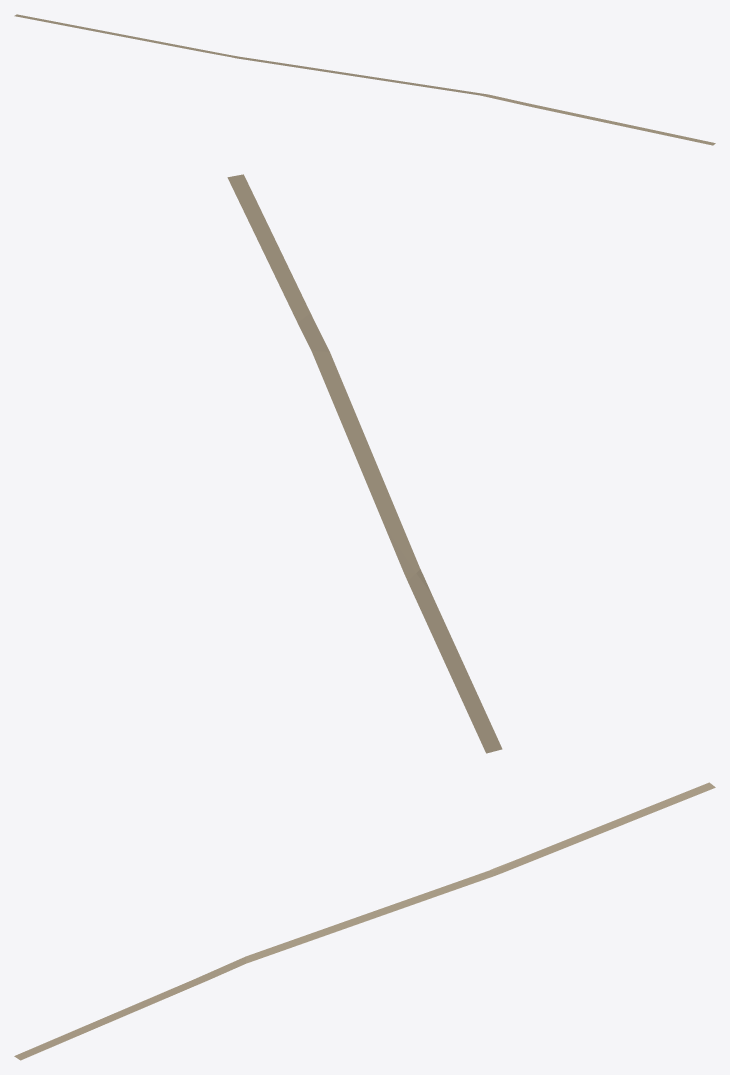
The model's file is farm_-3_6_track.glb.
3 renders of one model, top to bottom at view 1: azimuth 30°, elevation 25°; view 2: azimuth 150°, elevation 25°; view 3: azimuth 270°, elevation 25°, orthographic. The views are drawn at different scales.
Visible parts, largest first — view 1: geometry_0; view 2: geometry_0; view 3: geometry_0.
Part boxes in pixels (x1,y1,x2,y2): geometry_0: (14,14,715,145); geometry_0: (227,174,502,753); geometry_0: (14,782,715,1060).
Size of the model in its own units: 191 by 10 by 227.
